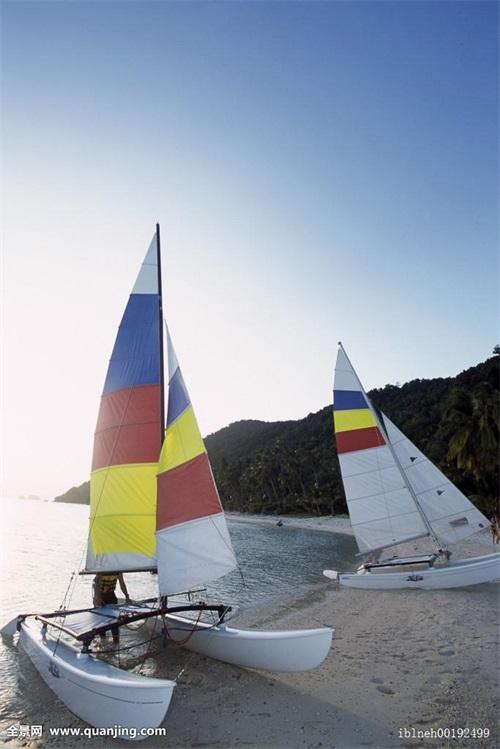Ship: (15, 223, 333, 740), (333, 335, 500, 597)
